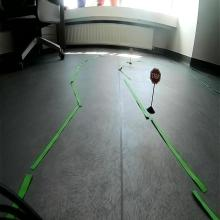stop: (149, 67, 161, 85)
